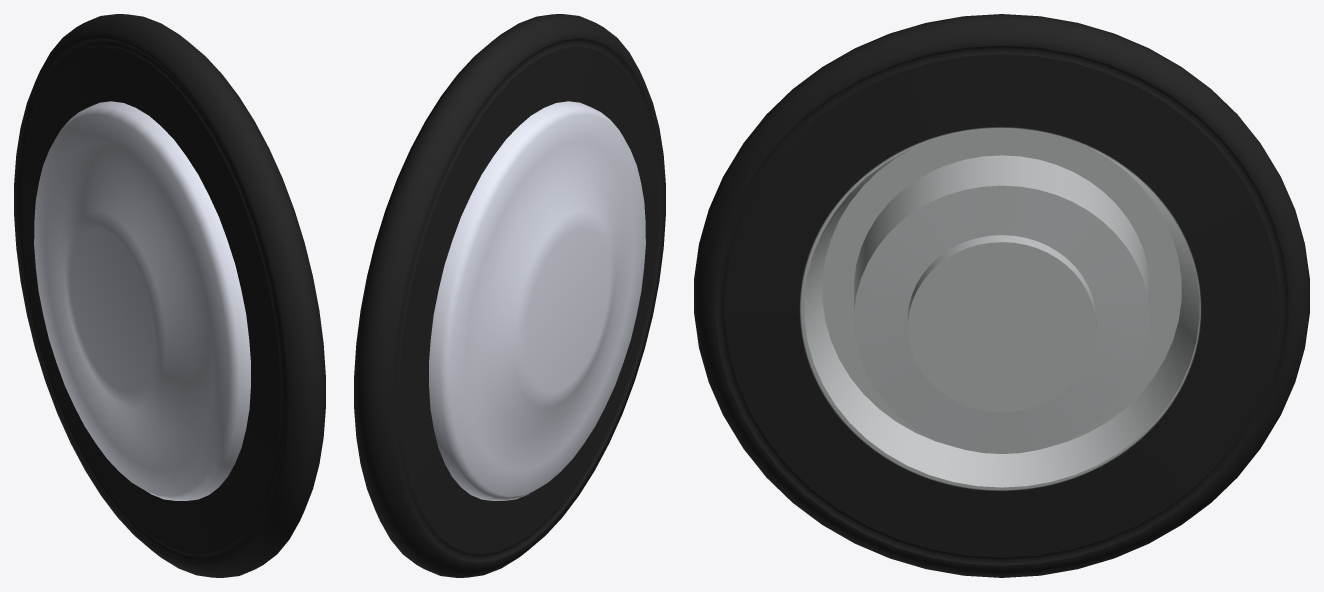
File: wheel.obj
3 views of the same model, side by side, from view 1: azimuth 30°, elevation 25°; view 2: azimuth 150°, elevation 25°; view 3: azimuth 270°, elevation 25° (orthographic). The views are drawn at different scales.
Visible parts, largest first — view 1: wheel; view 2: wheel; view 3: wheel.
Boxes of the visible parts, x1,y1,x2,y2 form: wheel: (14, 14, 325, 577); wheel: (354, 14, 665, 577); wheel: (694, 14, 1309, 577).
Bounding box in the file's own units: 0.0716 × 0.3048 × 0.3041.
1 material, 1 textured.
